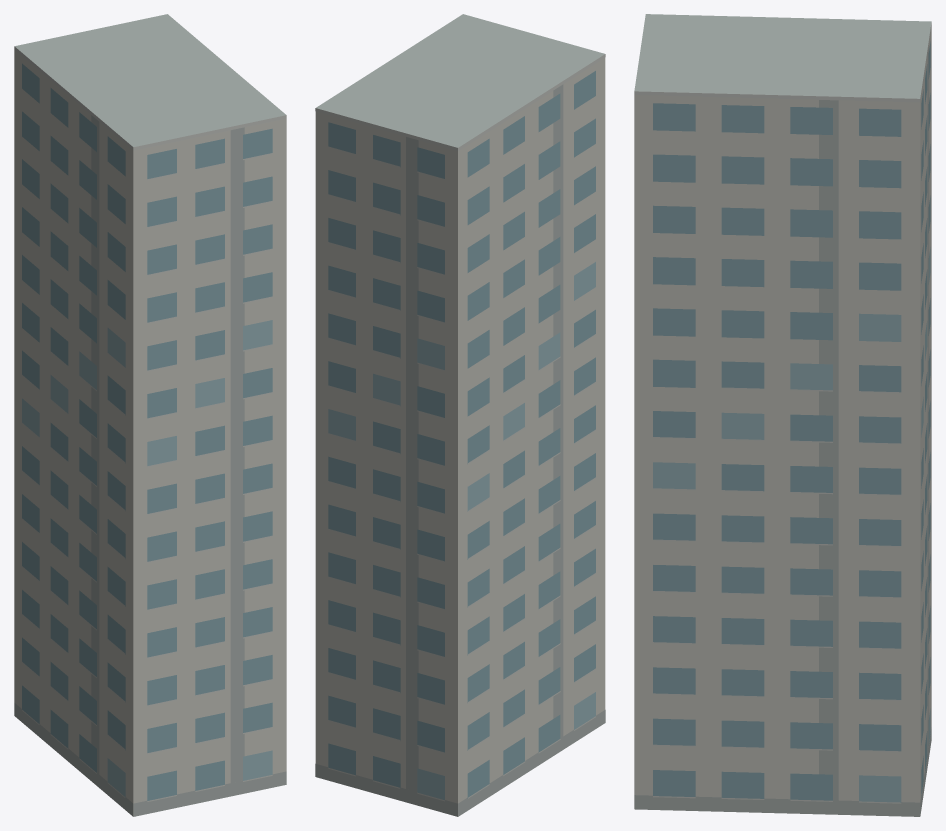
File: residential-eb8f0b08-0662-4e84-b030-3a4ae889d7ba.glb
The picture shows the model from 3 angles, left to right: view 1: azimuth 30°, elevation 25°; view 2: azimuth 150°, elevation 25°; view 3: azimuth 270°, elevation 25°; orthographic projection. The views are drawn at different scales.
Parts seen in each view (by area): view 1: residential-eb8f0b08-0662-4e84-b030-3a4ae889d7ba.tmp; view 2: residential-eb8f0b08-0662-4e84-b030-3a4ae889d7ba.tmp; view 3: residential-eb8f0b08-0662-4e84-b030-3a4ae889d7ba.tmp.
Part boxes in pixels (x1=…): residential-eb8f0b08-0662-4e84-b030-3a4ae889d7ba.tmp: x1=14, y1=14, x2=286, y2=816; residential-eb8f0b08-0662-4e84-b030-3a4ae889d7ba.tmp: x1=315, y1=14, x2=605, y2=816; residential-eb8f0b08-0662-4e84-b030-3a4ae889d7ba.tmp: x1=634, y1=14, x2=931, y2=816.
Bounding box in the file's own units: 12.18 × 48 × 18.02.
